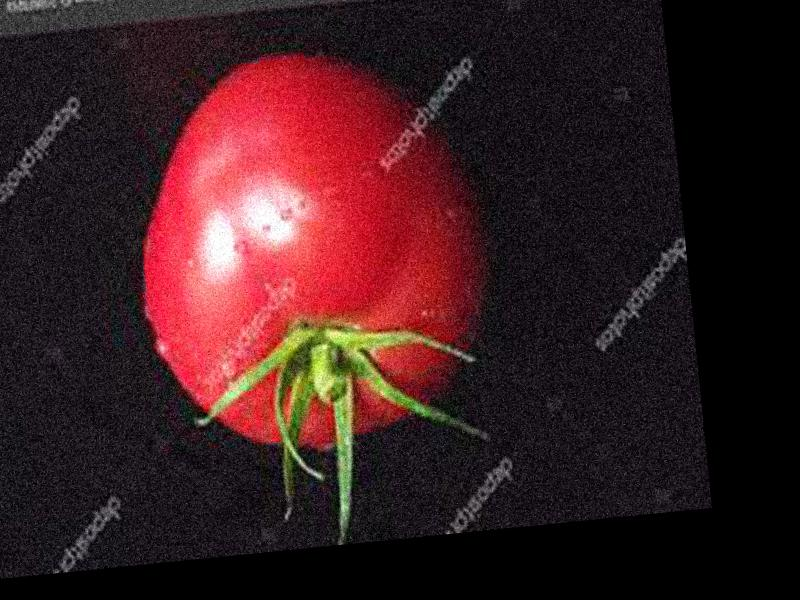Tomato: (121, 38, 502, 463)
